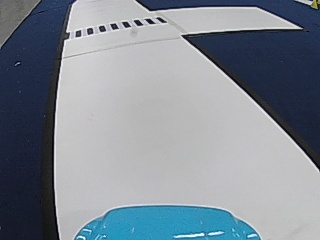CrossWalk: (66, 16, 164, 40)
